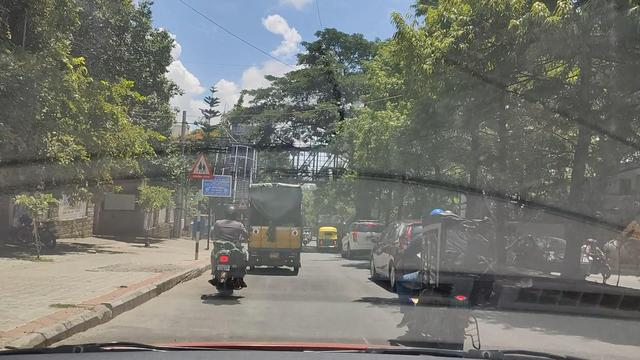HMV: (243, 177, 305, 273)
LMV: (396, 194, 523, 360)
